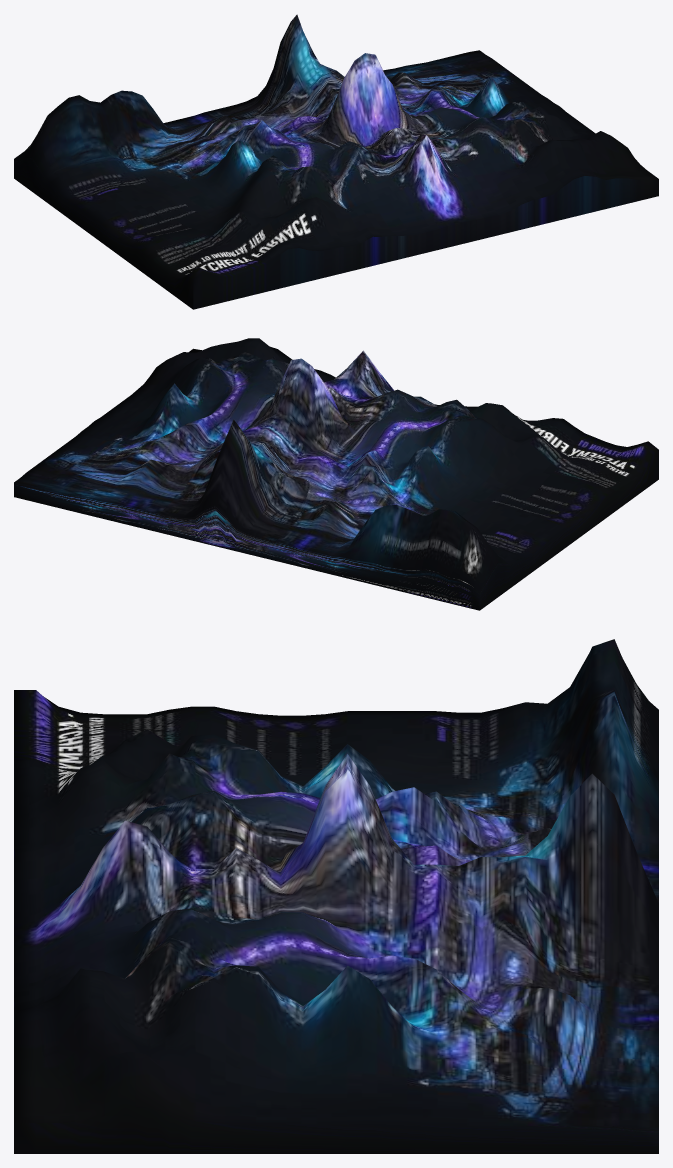
Rendered from WORKSTATION_01_Alchemy_Furnace.glb.
The picture shows the model from 3 angles, top to bottom: view 1: azimuth 30°, elevation 25°; view 2: azimuth 150°, elevation 25°; view 3: azimuth 270°, elevation 25°; orthographic projection. The views are drawn at different scales.
Parts seen in each view (by area): view 1: WORKSTATION_01_Alchemy_Furnace; view 2: WORKSTATION_01_Alchemy_Furnace; view 3: WORKSTATION_01_Alchemy_Furnace.
Part boxes in pixels (x1,y1,x2,y2): WORKSTATION_01_Alchemy_Furnace: (14, 14, 658, 309); WORKSTATION_01_Alchemy_Furnace: (14, 338, 658, 610); WORKSTATION_01_Alchemy_Furnace: (14, 639, 658, 1153).
Size of the model in its own units: 2 by 0.51 by 1.33.
Materials: 1 (1 with a texture image).
